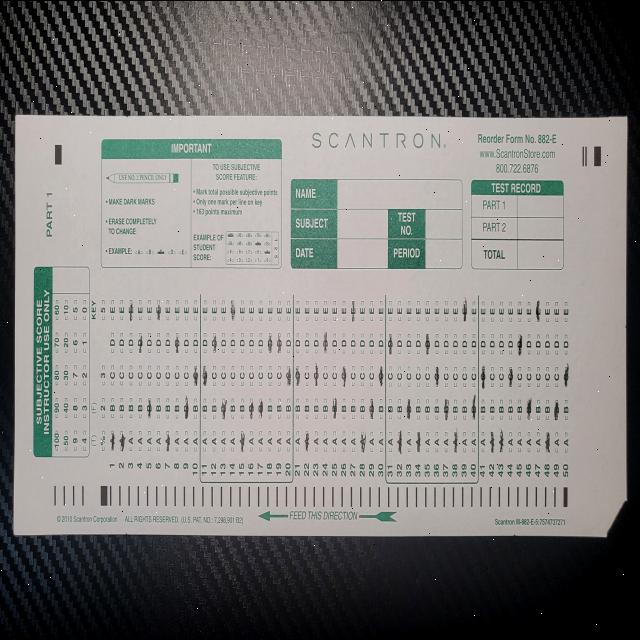scantron: (13, 112, 628, 537)
